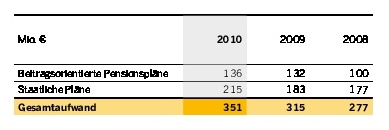table: (0, 0, 389, 130)
